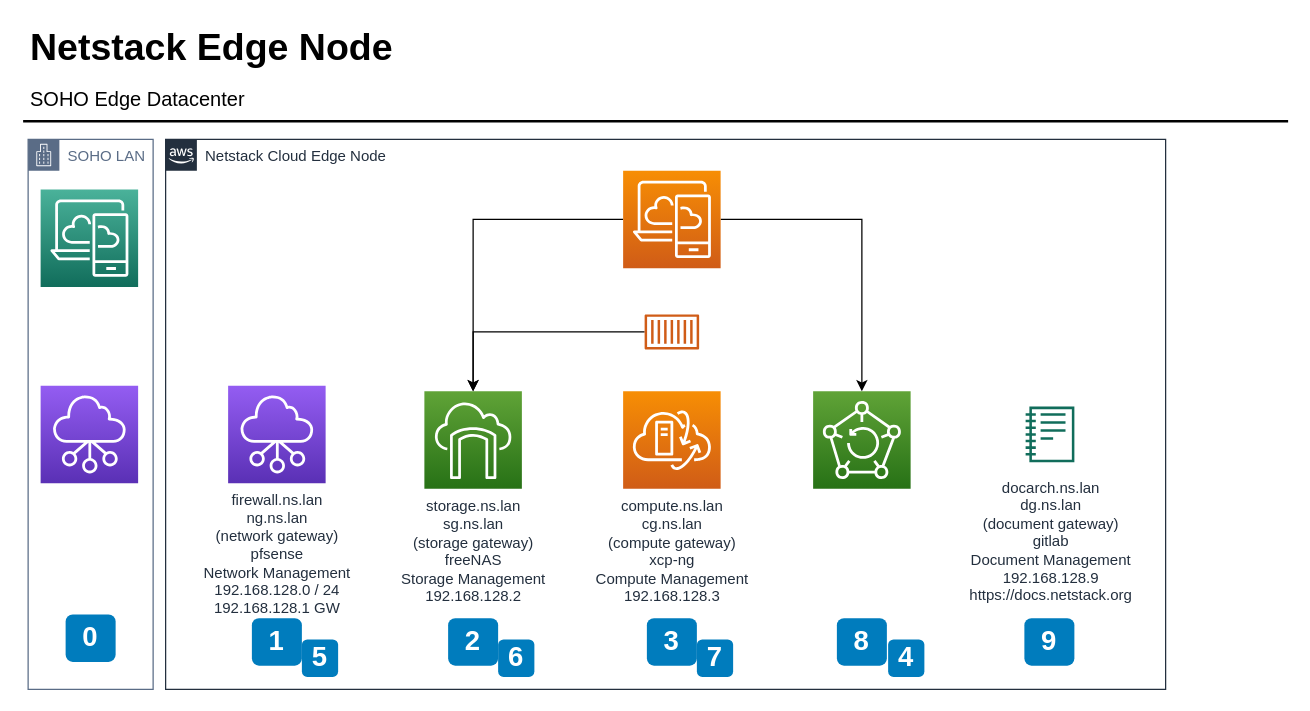
Some shapes in this 1310 by 711 pixel diagram are drawn without their labels. The centre of each missing label's shape, as x and y in pixels:
"192.168.1.0 / 24 192.168.1.1 GW Typical LAN Home Network" belongs at (x=88, y=433).
"backup.ns.lan bg.ns.lan (backup gateway) freeNAS Backup Management 192.168.128.8" belongs at (x=861, y=439).
"docker and virtual machines" belongs at (x=671, y=331).
"User Devices unsecured DHCP LAN" belongs at (x=88, y=237).
"Workstations Secured Devices" belongs at (x=671, y=218).
